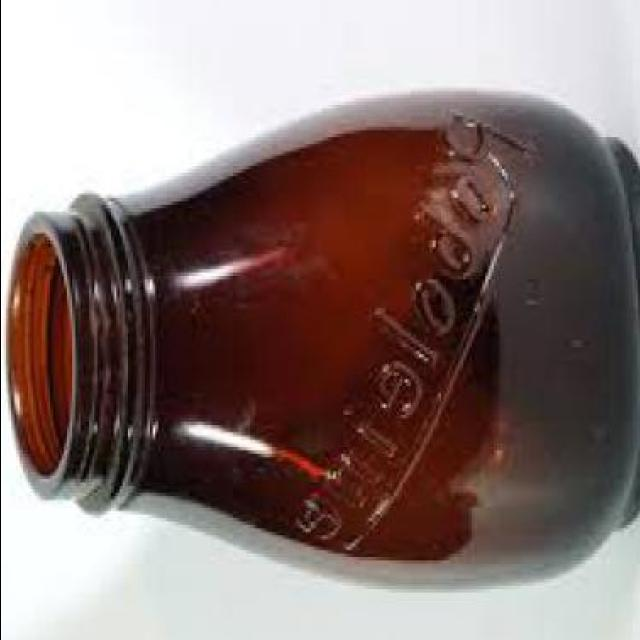kaca: (1, 88, 640, 589)
